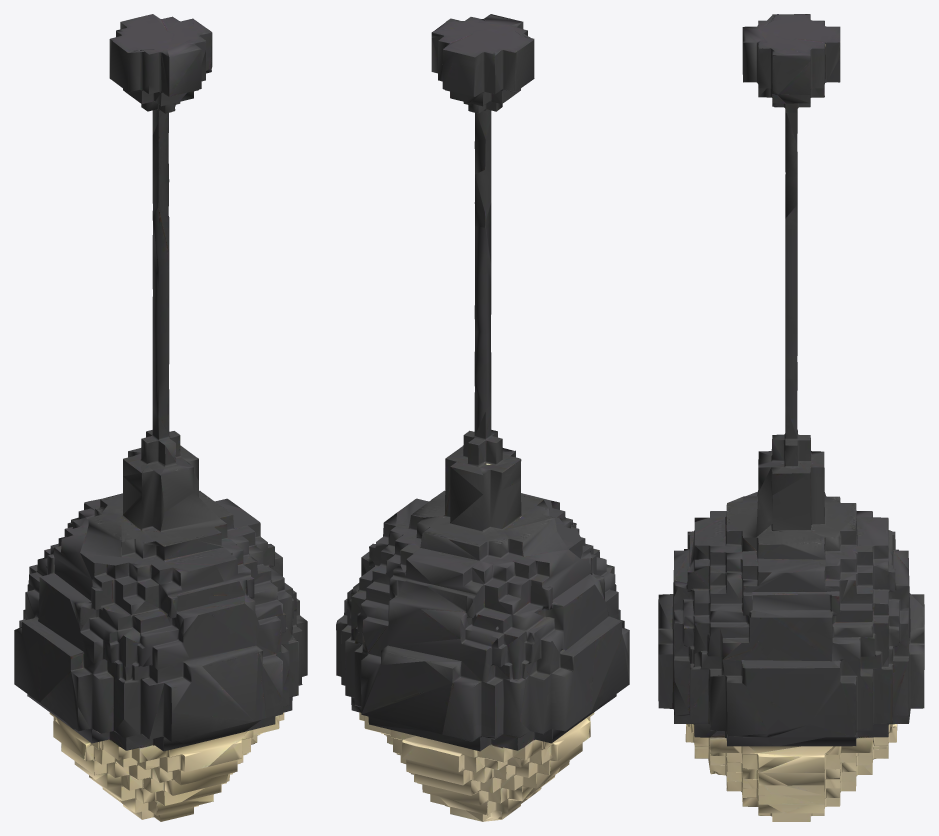
File: pendant_lamp.glb
3 renders of one model, left to right at view 1: azimuth 30°, elevation 25°; view 2: azimuth 150°, elevation 25°; view 3: azimuth 270°, elevation 25°, orthographic.
Bounding box in the file's own units: 0.6237 × 2 × 0.6235.
Materials: 1 (1 with a texture image).
